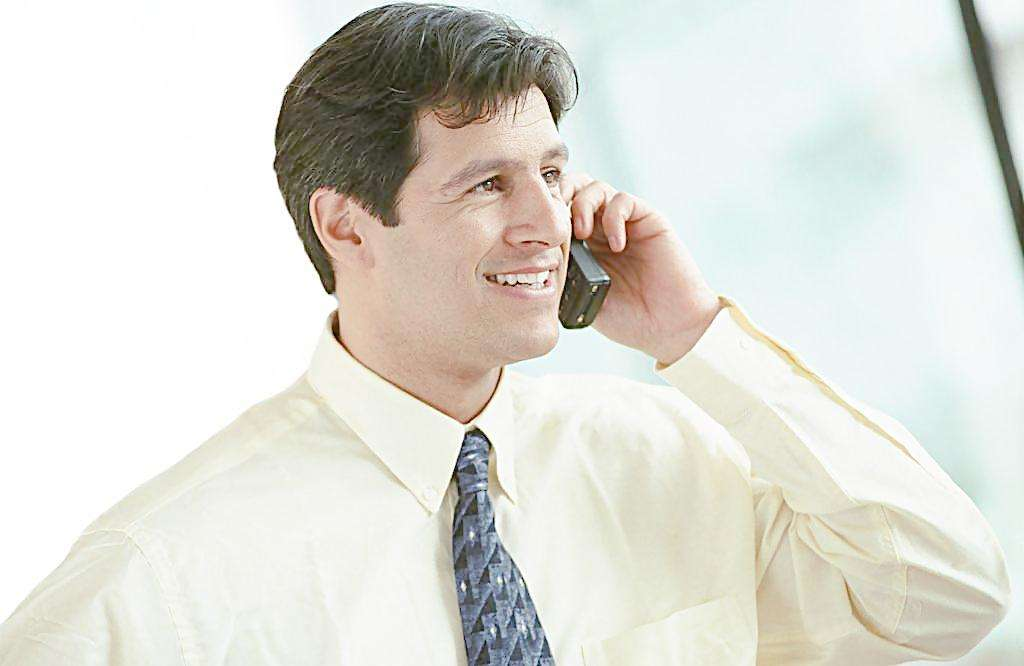calling: (549, 164, 702, 351)
